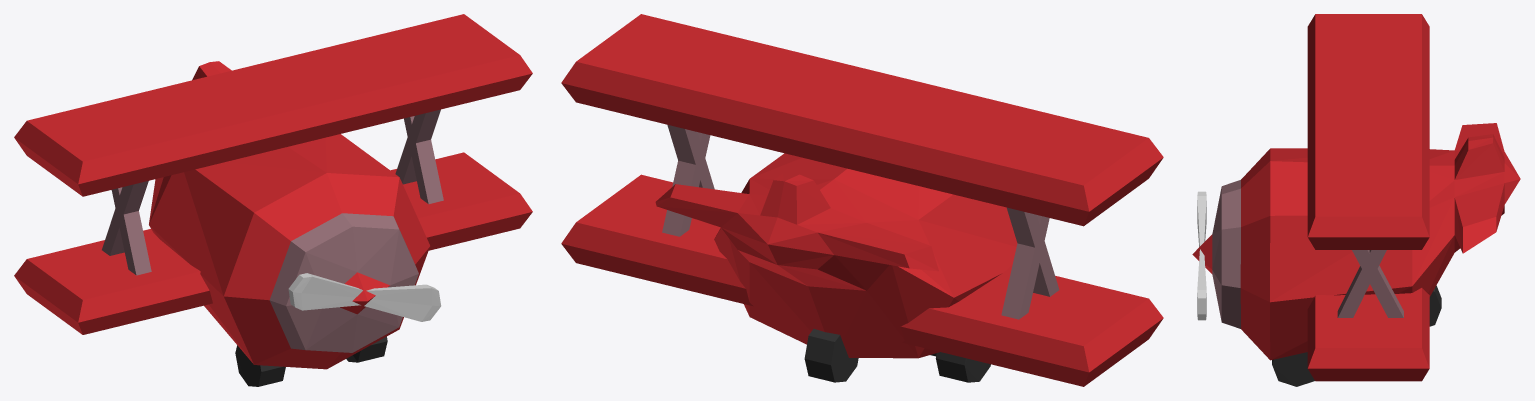
File: planeanim1.fbx
3 views of the same model, side by side, from view 1: azimuth 30°, elevation 25°; view 2: azimuth 150°, elevation 25°; view 3: azimuth 270°, elevation 25° (orthographic). The views are drawn at different scales.
Visible parts, largest first — view 1: Body, propeller; view 2: Body; view 3: Body, propeller.
Part boxes in pixels (x1,y1,x2,y2): Body: (14,14,532,386); propeller: (288,273,441,321); Body: (561,14,1163,386); Body: (1192,14,1520,386); propeller: (1197,191,1206,320).
Size of the model in its own units: 5.55 by 2.98 by 3.66.
